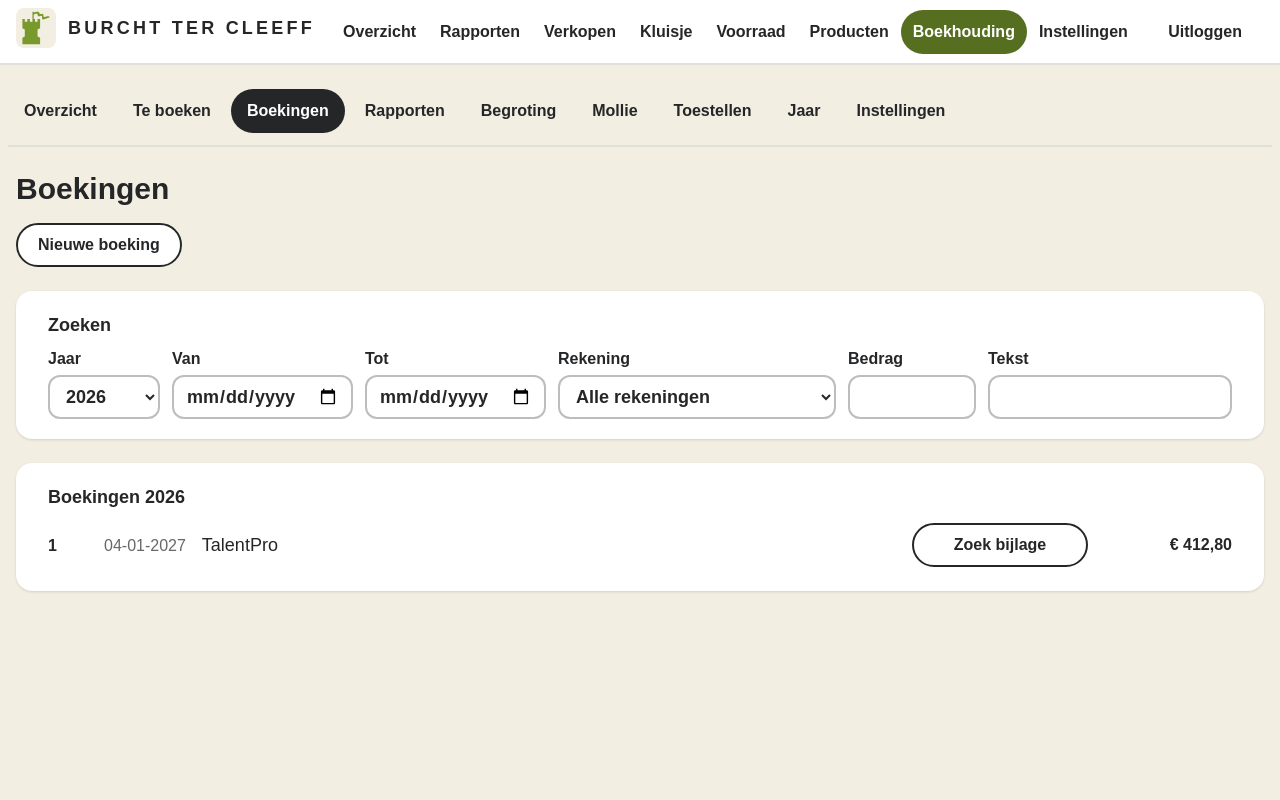
finds files in Gmail, keeps the one picked with the entry, and then shows Bijlage
Expected: the link "1 04-01-2027 TalentPro" is shown, left=48, top=535, right=278, bottom=555
What coordinates should you click on to do the following:
click the button "Zoek bijlage"
I would click on:
 (1000, 545)
Its box is left=912, top=523, right=1088, bottom=567.
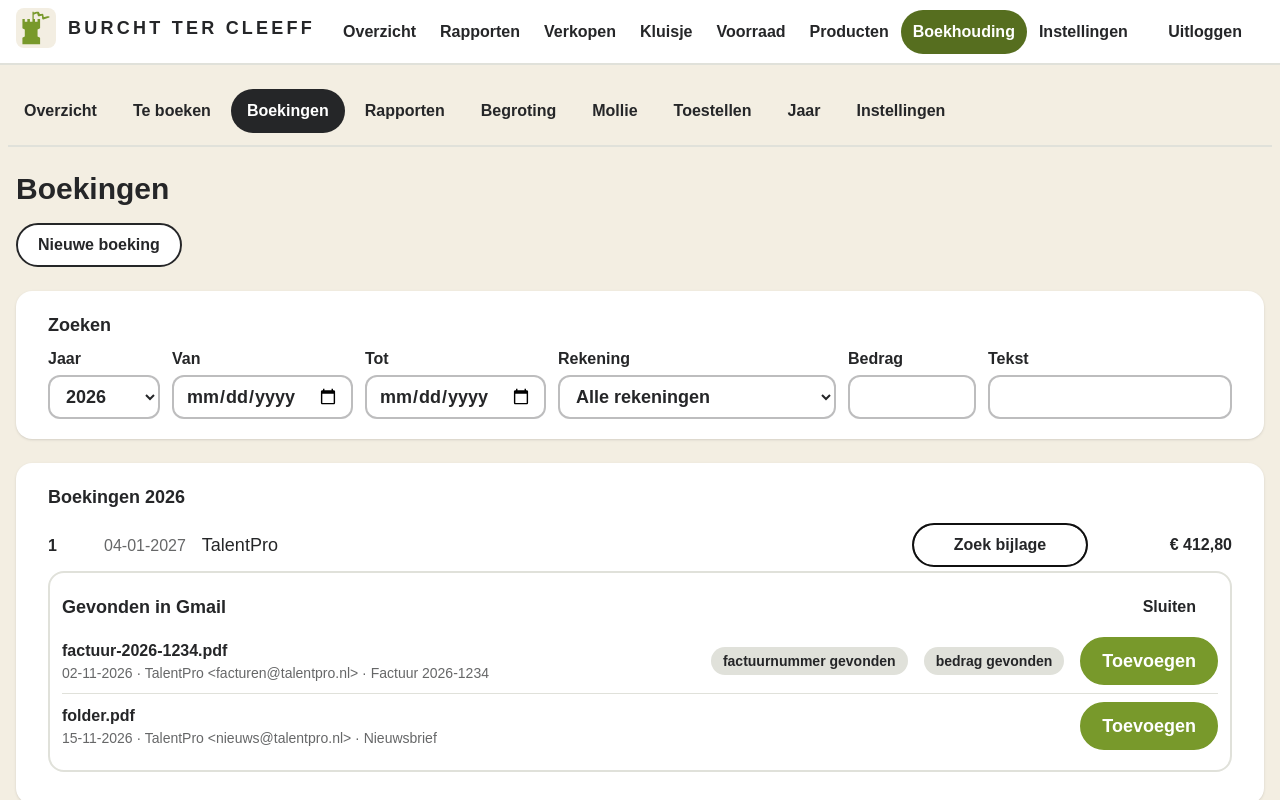
Expected: the text "factuur-2026-1234.pdf" is shown, left=62, top=642, right=227, bottom=659
Expected: the text "bedrag gevonden" is shown, left=924, top=647, right=1064, bottom=675
Expected: the text "factuurnummer gevonden" is shown once, left=711, top=647, right=908, bottom=675
What coordinates should you click on to do the following:
click the button "Toevoegen" in the row of "factuur-2026-1234.pdf"
I would click on:
 (1149, 661)
Its box is left=1080, top=637, right=1218, bottom=685.
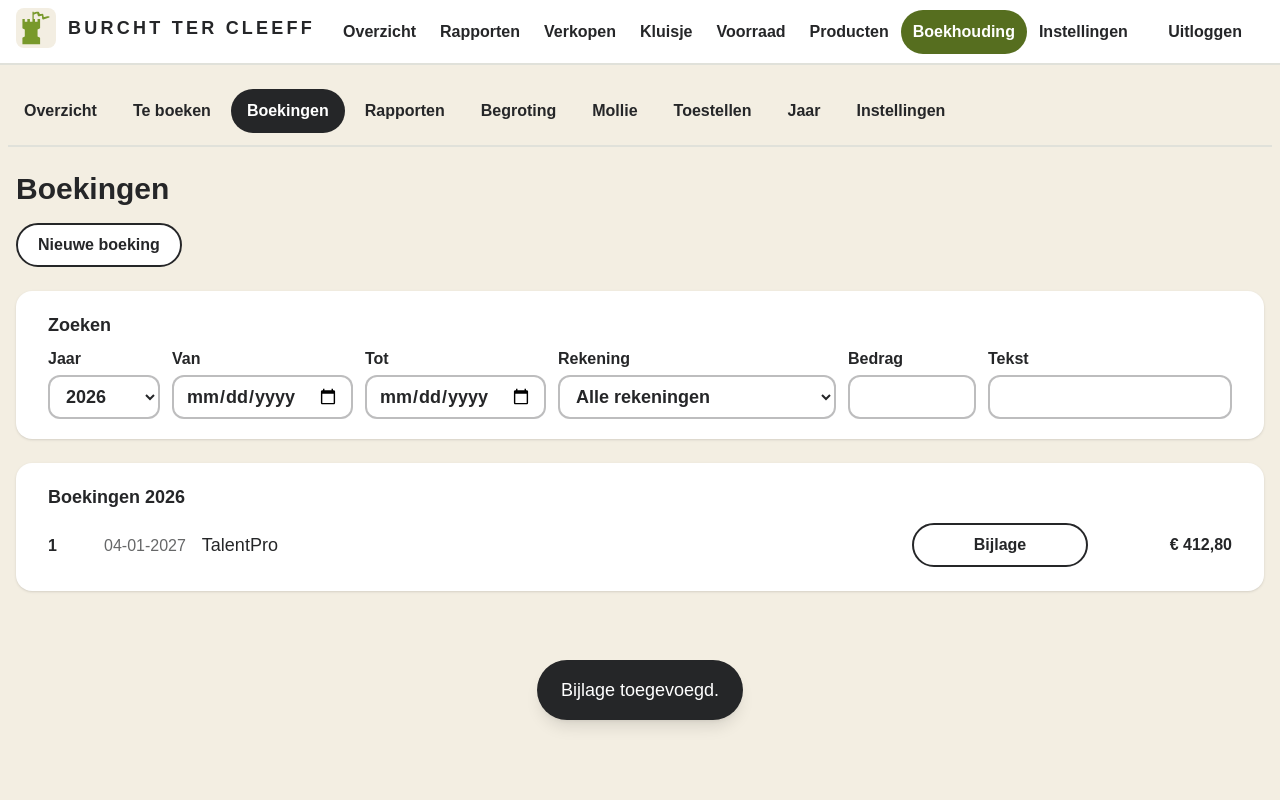
Expected: the heading "Gevonden in Gmail" is gone
